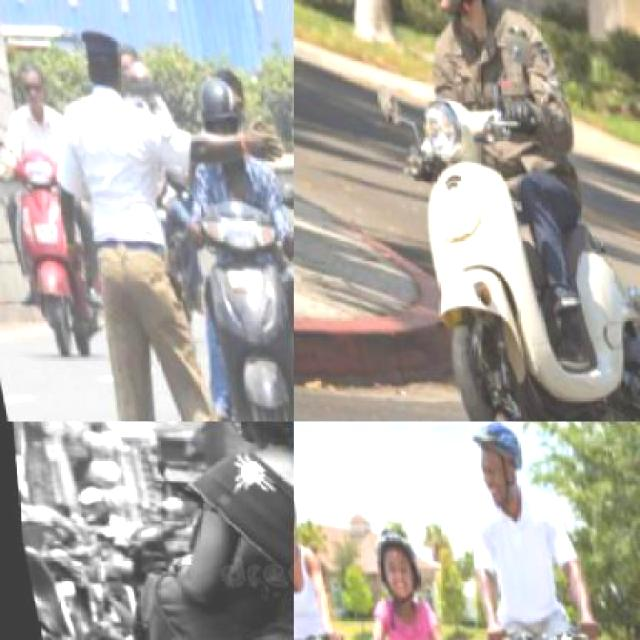With Helmet: (463, 422, 534, 502), (365, 512, 427, 603), (186, 63, 246, 155), (294, 457, 320, 569), (120, 48, 158, 112)
Without Helmet: (195, 422, 292, 460), (7, 46, 50, 105)
